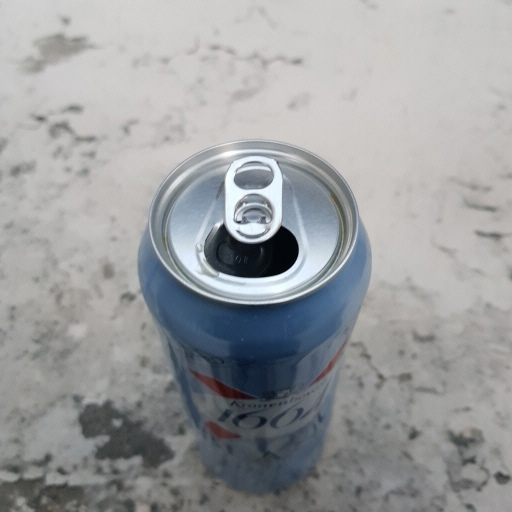Metal_0: (137, 137, 374, 495)
